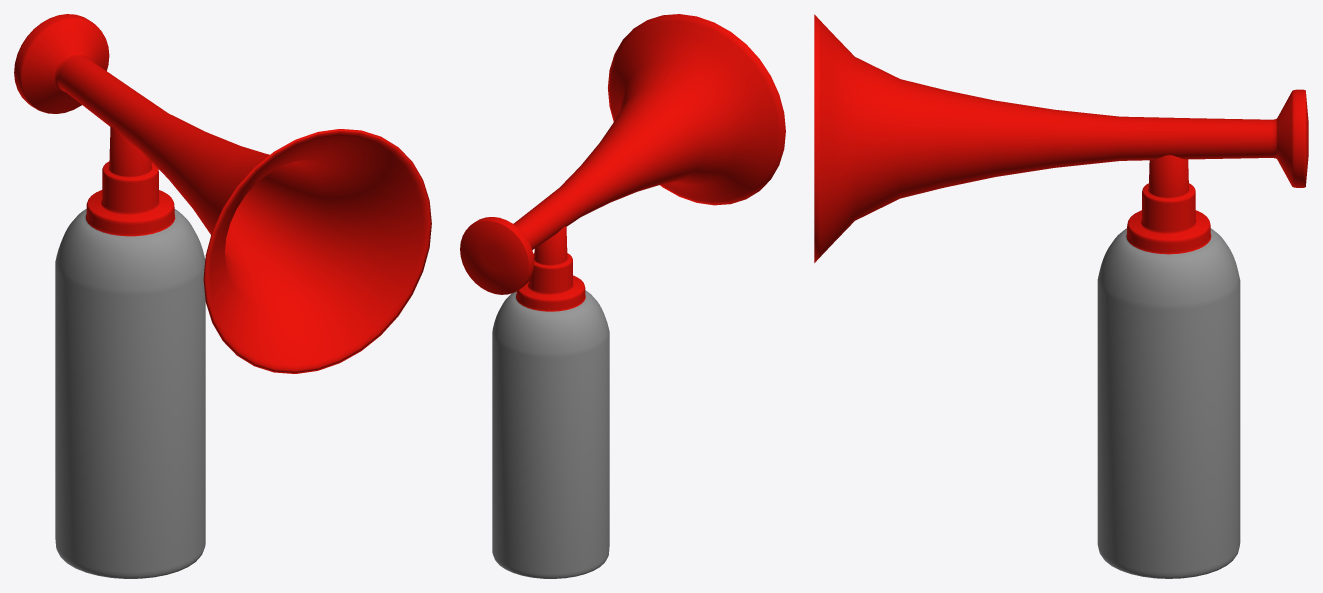
File: AirHorn.fbx
3 views of the same model, side by side, from view 1: azimuth 30°, elevation 25°; view 2: azimuth 150°, elevation 25°; view 3: azimuth 270°, elevation 25° (orthographic). The views are drawn at different scales.
Visible parts, largest first — view 1: Cylinder.001, Cylinder; view 2: Cylinder.001, Cylinder; view 3: Cylinder, Cylinder.001.
Part boxes in pixels (left/top/right/bottom): Cylinder.001: left=14, top=14, right=431, bottom=373; Cylinder: left=55, top=126, right=205, bottom=578; Cylinder.001: left=460, top=14, right=785, bottom=294; Cylinder: left=492, top=226, right=609, bottom=578; Cylinder: left=1097, top=155, right=1240, bottom=578; Cylinder.001: left=814, top=14, right=1308, bottom=262.
Size of the model in its own units: 350 by 812 by 693.
